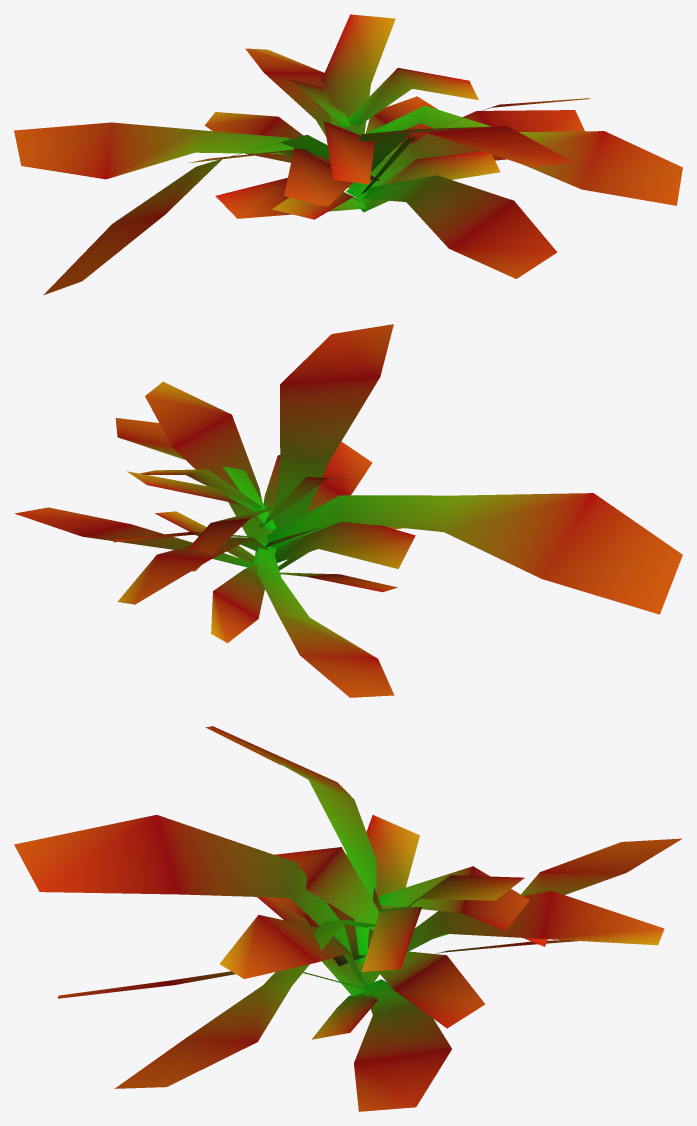
The model's file is Cape Weed_LOD2_Var6_tjmhfcyia.fbx.
The picture shows the model from 3 angles, top to bottom: view 1: azimuth 30°, elevation 25°; view 2: azimuth 150°, elevation 25°; view 3: azimuth 270°, elevation 25°; orthographic projection. The views are drawn at different scales.
Parts seen in each view (by area): view 1: _09b3_Var6_LOD2; view 2: _09b3_Var6_LOD2; view 3: _09b3_Var6_LOD2.
Boxes of the visible parts, left/top/right/bottom form: _09b3_Var6_LOD2: left=14, top=14, right=682, bottom=295; _09b3_Var6_LOD2: left=14, top=324, right=682, bottom=697; _09b3_Var6_LOD2: left=14, top=726, right=682, bottom=1111.
Size of the model in its own units: 17.58 by 4.06 by 14.45.
